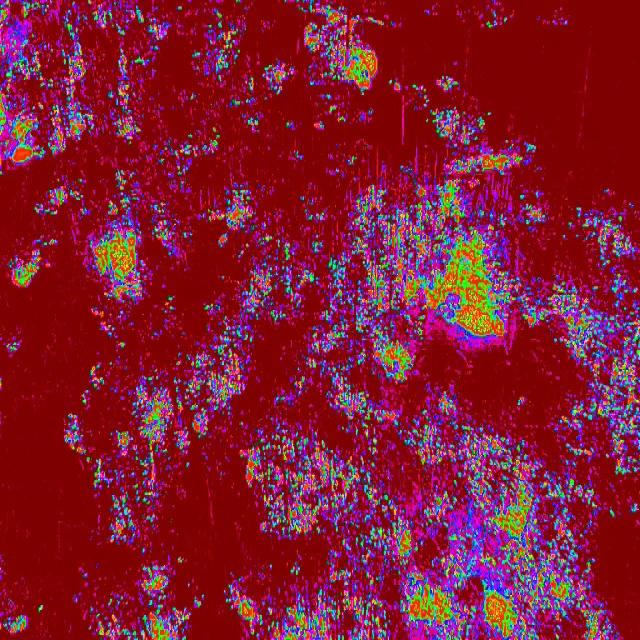fire: (34, 169, 640, 353), (245, 414, 591, 640), (0, 0, 382, 169), (62, 352, 194, 640), (561, 352, 640, 520), (278, 354, 466, 414), (388, 73, 491, 139), (194, 350, 258, 434), (442, 138, 536, 168), (7, 239, 49, 292), (0, 579, 32, 640), (592, 590, 628, 640), (224, 575, 245, 617)
